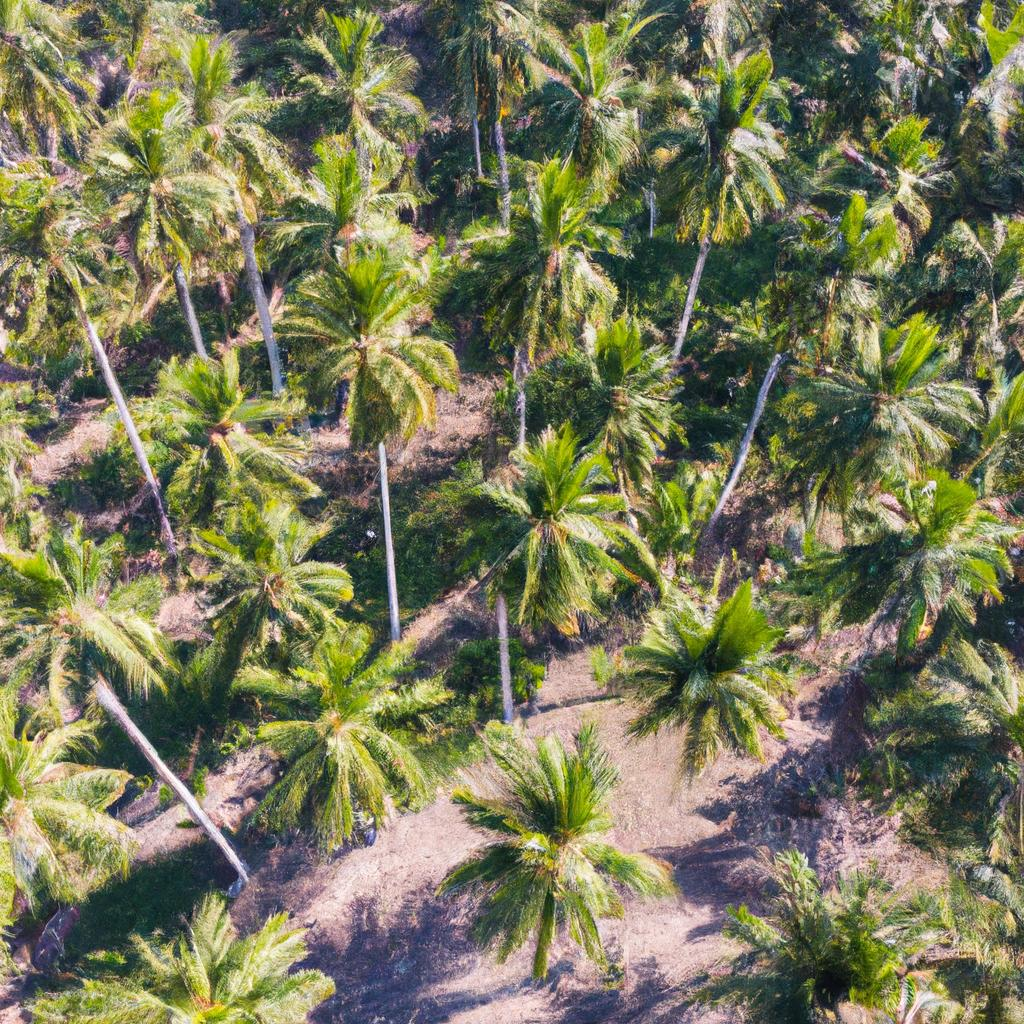coconut_tree: (433, 704, 654, 991), (225, 618, 463, 866), (241, 218, 484, 443), (451, 421, 670, 650), (793, 293, 1019, 499), (60, 75, 260, 288), (462, 134, 633, 362), (616, 566, 809, 767), (0, 507, 182, 718), (179, 481, 385, 623)
